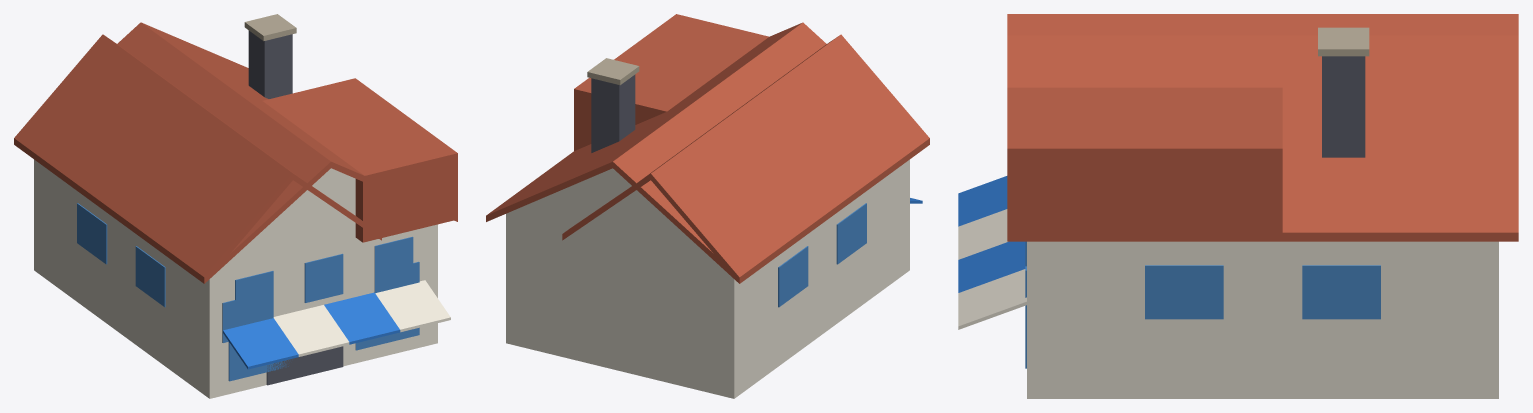
Rendered from Kit_House.glb.
3 views of the same model, side by side, from view 1: azimuth 30°, elevation 25°; view 2: azimuth 150°, elevation 25°; view 3: azimuth 270°, elevation 25° (orthographic). The views are drawn at different scales.
Parts seen in each view (by area): view 1: Kit_House_C, Kit_House_A, Kit_House_D, Kit_House_B; view 2: Kit_House_A, Kit_House_C, Kit_House_B; view 3: Kit_House_A, Kit_House_C, Kit_House_D, Kit_House_B.
Part boxes in pixels (x1=…): Kit_House_C: x1=14, y1=34, x2=457, y2=398; Kit_House_A: x1=14, y1=22, x2=457, y2=398; Kit_House_D: x1=223, y1=280, x2=450, y2=381; Kit_House_B: x1=235, y1=14, x2=413, y2=374; Kit_House_A: x1=486, y1=22, x2=929, y2=398; Kit_House_C: x1=562, y1=14, x2=929, y2=398; Kit_House_B: x1=587, y1=58, x2=639, y2=152; Kit_House_A: x1=1007, y1=35, x2=1518, y2=398; Kit_House_C: x1=1007, y1=14, x2=1518, y2=398; Kit_House_D: x1=958, y1=176, x2=1026, y2=368; Kit_House_B: x1=1025, y1=27, x2=1369, y2=248.
Bounding box in the file's own units: 20 × 18.4 × 28.5.
